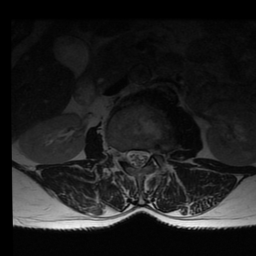CCS_normal: (133, 140, 142, 175)
LFS_stenosis: (150, 137, 158, 164)
LLS_normal: (142, 140, 151, 173)
RFS_normal: (117, 140, 124, 169)
RLS_normal: (124, 140, 133, 171)
